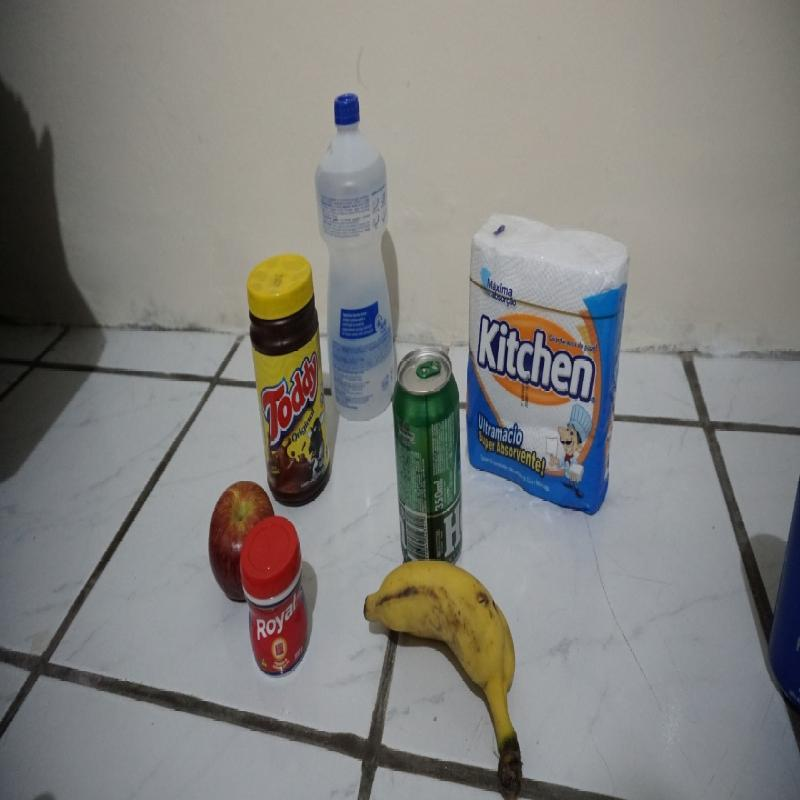Alcohol Bottle: (316, 92, 396, 420)
Apple: (210, 479, 276, 602)
Banana: (366, 562, 526, 793)
Beer can: (393, 348, 461, 564)
Chocolate Powder: (247, 253, 332, 506)
Napkin: (467, 215, 630, 515)
Yeast: (241, 516, 311, 676)
